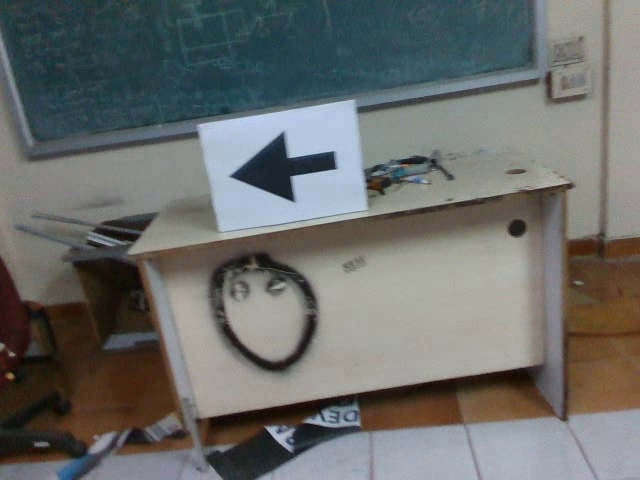Left: (224, 129, 341, 210)
